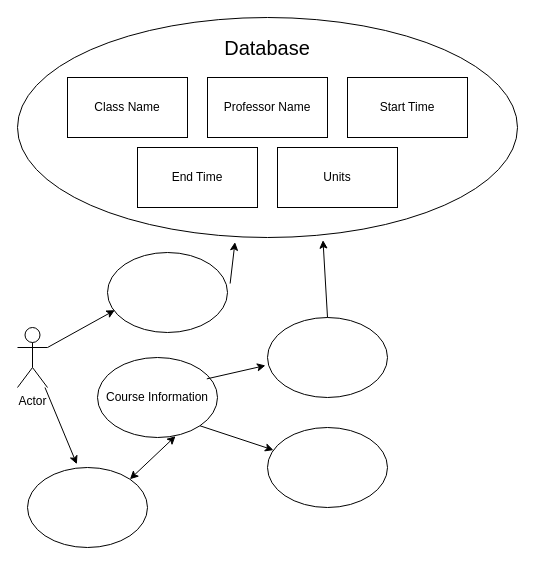
This 535x565 diagram has some shape labels left out. The shapes that lost their labels are listed below. From the top down, each one's centre as x and y in pixels, then its label:
the point at 167,292: Add Course
the point at 327,357: Edit Course
the point at 327,467: Delete Course
the point at 87,507: My Courses
